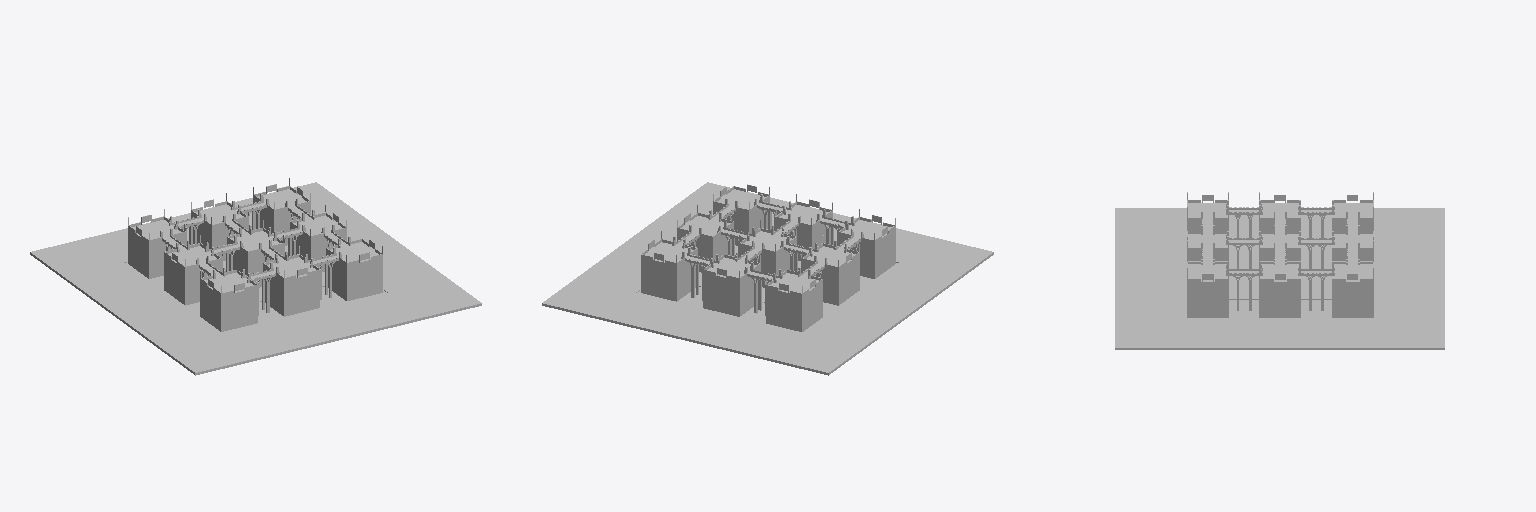
The model's file is rocket arena.obj.
The picture shows the model from 3 angles: view 1: azimuth 30°, elevation 25°; view 2: azimuth 150°, elevation 25°; view 3: azimuth 270°, elevation 25°; orthographic projection.
Parts seen in each view (by area): view 1: Lava5, Lava8, Lava6, SmoothBlockModel1681, SmoothBlockModel1759, SmoothBlockModel1720, Floor1, SmoothBlockModel1694, SmoothBlockModel1707, Lava7, SmoothBlockModel1772, SmoothBlockModel1785 (+2 smaller); view 2: Lava7, Lava8, Lava6, Lava5, SmoothBlockModel1707, SmoothBlockModel1772, SmoothBlockModel1746, Floor1, SmoothBlockModel1694, SmoothBlockModel1681, SmoothBlockModel1759, SmoothBlockModel1785 (+2 smaller); view 3: Lava6, Lava5, Lava7, Lava8, Floor1, SmoothBlockModel1772, SmoothBlockModel1759, SmoothBlockModel1785, SmoothBlockModel1707, SmoothBlockModel1681, SmoothBlockModel1694, SmoothBlockModel1746 (+2 smaller).
Part boxes in pixels (x1,y1,x2,y2): Lava5: (161, 293, 421, 373); Lava8: (30, 238, 219, 347); Lava6: (328, 207, 481, 317); SmoothBlockModel1681: (200, 272, 257, 331); SmoothBlockModel1759: (326, 242, 382, 300); SmoothBlockModel1720: (263, 257, 319, 316); Floor1: (30, 245, 481, 375); SmoothBlockModel1694: (164, 246, 221, 305); SmoothBlockModel1707: (128, 220, 184, 278); Lava7: (89, 182, 349, 262); SmoothBlockModel1772: (253, 189, 310, 245); SmoothBlockModel1785: (290, 215, 346, 271); Lava7: (542, 278, 802, 358); Lava8: (769, 263, 958, 373); Lava6: (577, 182, 753, 292); Lava5: (770, 197, 993, 277); SmoothBlockModel1707: (766, 273, 822, 331); SmoothBlockModel1772: (641, 242, 697, 301); SmoothBlockModel1746: (703, 257, 760, 316); Floor1: (542, 245, 993, 375); SmoothBlockModel1694: (802, 246, 859, 305); SmoothBlockModel1681: (838, 220, 895, 278); SmoothBlockModel1759: (713, 189, 769, 245); SmoothBlockModel1785: (677, 216, 733, 272); Lava6: (1115, 318, 1376, 347); Lava5: (1115, 208, 1183, 317); Lava7: (1377, 237, 1444, 347); Lava8: (1184, 208, 1444, 236); Floor1: (1115, 237, 1444, 349); SmoothBlockModel1772: (1332, 264, 1373, 317); SmoothBlockModel1759: (1187, 264, 1228, 317); SmoothBlockModel1785: (1259, 264, 1300, 317); SmoothBlockModel1707: (1332, 203, 1373, 230); SmoothBlockModel1681: (1187, 203, 1228, 230); SmoothBlockModel1694: (1259, 203, 1300, 230); SmoothBlockModel1746: (1332, 233, 1373, 260).
Bounding box in the file's own units: 512 × 82.2 × 512.